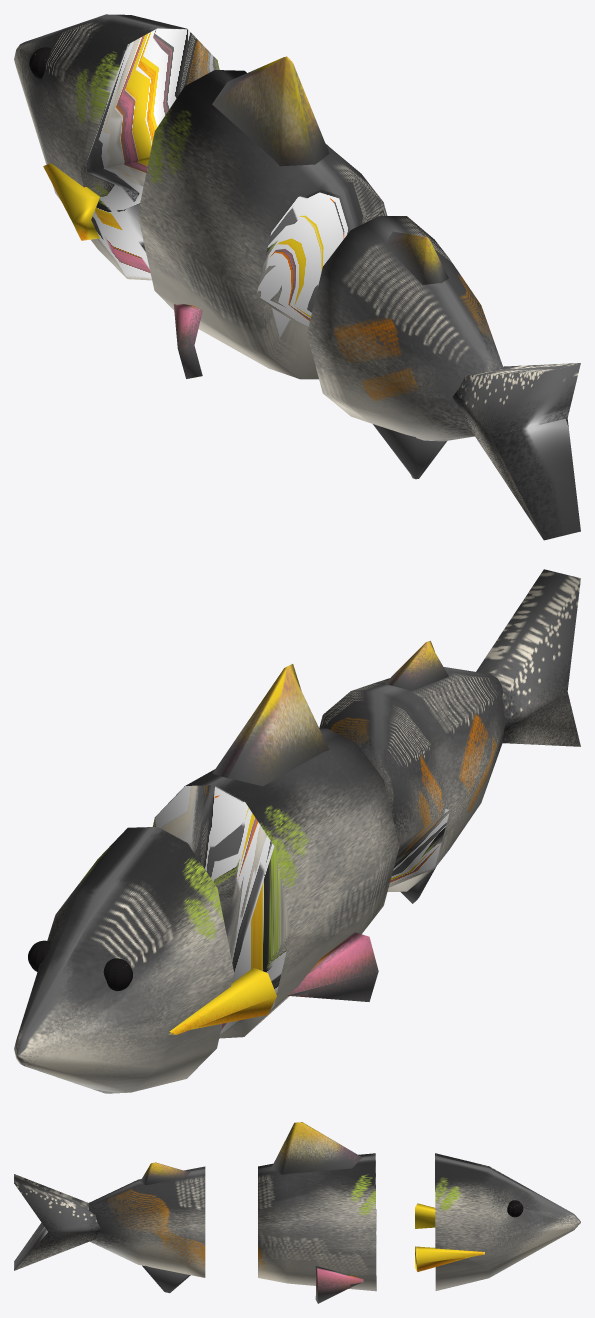
The model's file is BOCACHICO CORTAR 1.fbx.
3 views of the same model, one above another, from view 1: azimuth 30°, elevation 25°; view 2: azimuth 150°, elevation 25°; view 3: azimuth 270°, elevation 25° (orthographic). The views are drawn at different scales.
Visible parts, largest first — view 1: mitad, COLA, cabeza; view 2: mitad, cabeza, COLA; view 3: mitad, COLA, cabeza.
Boxes of the visible parts, left/top/right/bottom form: mitad: left=138, top=56, right=387, bottom=379; COLA: left=307, top=216, right=580, bottom=540; cabeza: left=14, top=14, right=219, bottom=280; mitad: left=152, top=664, right=399, bottom=1038; cabeza: left=14, top=827, right=276, bottom=1093; COLA: left=319, top=569, right=580, bottom=903; mitad: left=258, top=1122, right=376, bottom=1303; COLA: left=14, top=1162, right=205, bottom=1293; cabeza: left=415, top=1153, right=580, bottom=1290.
Bounding box in the file's own units: 340 × 522 × 1568.
